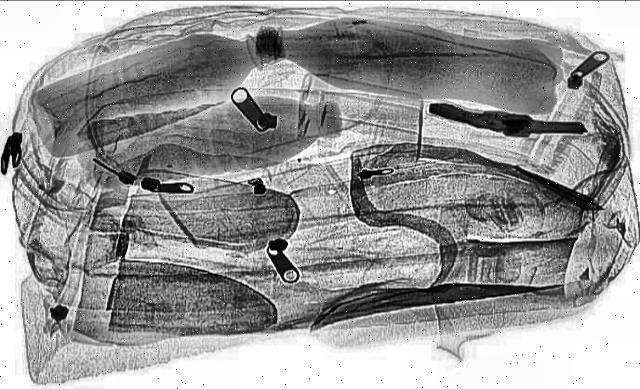Gun: (417, 97, 591, 149)
